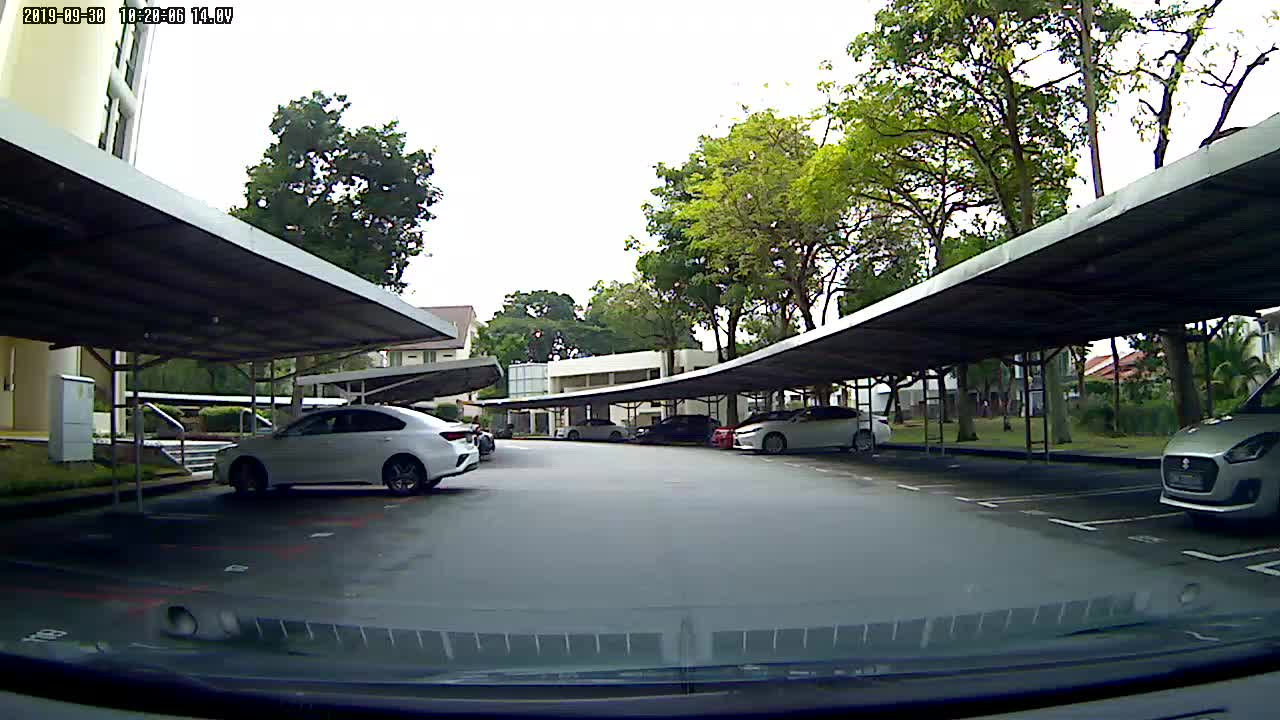car: (212, 403, 485, 499), (1157, 357, 1280, 526), (718, 408, 896, 451), (634, 413, 721, 449), (550, 416, 629, 446)
